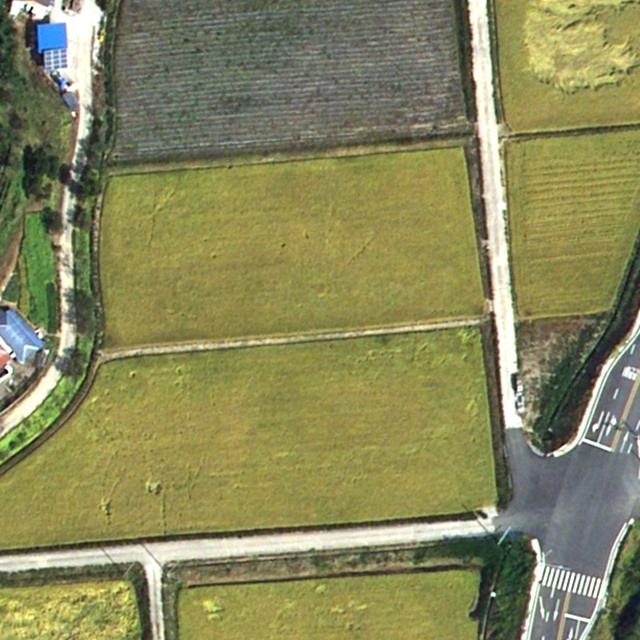panel: (41, 46, 68, 72)
